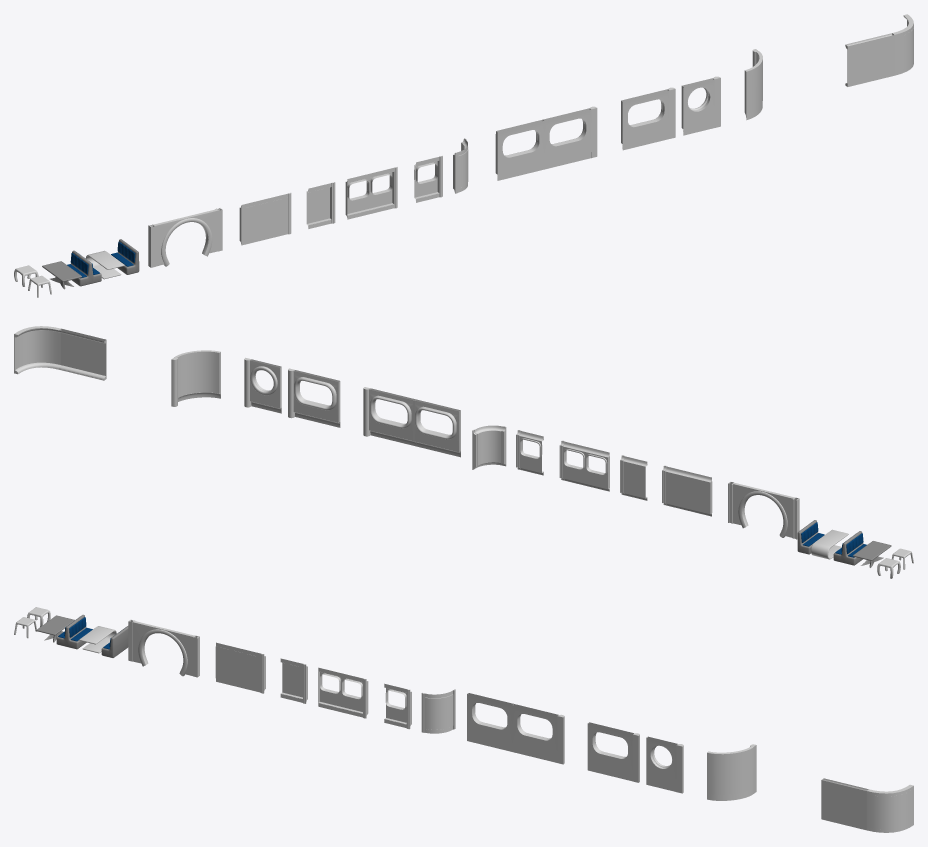
The model's file is LEVEL MODULAR PIECIES.fbx.
3 renders of one model, top to bottom at view 1: azimuth 30°, elevation 25°; view 2: azimuth 150°, elevation 25°; view 3: azimuth 330°, elevation 25°, orthographic. The views are drawn at different scales.
Visible parts, largest first — view 1: Cube.009, WindowWall_L.005, WindowWall_L.001, WindowWall_L.003, Cube.013, WindowWall_L, WindowWall_L.009, WindowWall_L.011, Entrance, BlankWall_S, WindowWall_S, Cube.024 (+2 smaller); view 2: WindowWall_L.011, BlankWall_L, Cube.024, Cube.013, WindowWall_L, WindowWall_L.005, WindowWall_L.001, Cube.009, WindowWall_L.003, WindowWall_L.009, Corner, BlankWall_S (+5 smaller); view 3: WindowWall_L.011, Cube.009, WindowWall_L.001, WindowWall_L.003, WindowWall_L.005, Cube.024, Cube.013, WindowWall_L, WindowWall_L.009, Corner, Entrance, BlankWall_S (+5 smaller).
Part boxes in pixels (<box>): Cube.009: <box>239,193,287,245</box>; WindowWall_L.005: <box>495,119,544,180</box>; WindowWall_L.001: <box>621,89,669,150</box>; WindowWall_L.003: <box>543,108,591,169</box>; Cube.013: <box>847,38,894,83</box>; WindowWall_L: <box>345,168,394,219</box>; WindowWall_L.009: <box>681,78,714,135</box>; WindowWall_L.011: <box>744,51,762,120</box>; Entrance: <box>154,209,217,266</box>; BlankWall_S: <box>306,183,331,228</box>; WindowWall_S: <box>414,157,439,202</box>; Cube.024: <box>894,20,913,72</box>; WindowWall_L.011: <box>175,350,220,401</box>; BlankWall_L: <box>665,466,712,516</box>; Cube.024: <box>14,330,60,370</box>; Cube.013: <box>61,333,106,375</box>; WindowWall_L: <box>563,441,609,491</box>; WindowWall_L.005: <box>414,399,460,457</box>; WindowWall_L.001: <box>293,370,340,427</box>; Cube.009: <box>665,467,712,515</box>; WindowWall_L.003: <box>369,388,415,445</box>; WindowWall_L.009: <box>250,359,281,413</box>; Corner: <box>475,425,502,468</box>; BlankWall_S: <box>623,456,647,500</box>; WindowWall_L.011: <box>707,746,753,800</box>; Cube.009: <box>215,642,260,692</box>; WindowWall_L.001: <box>587,722,633,781</box>; WindowWall_L.003: <box>512,704,558,762</box>; WindowWall_L.005: <box>467,693,513,751</box>; Cube.024: <box>866,789,913,829</box>; Cube.013: <box>821,783,866,826</box>; WindowWall_L: <box>318,667,362,717</box>; WindowWall_L.009: <box>646,736,677,791</box>; Corner: <box>425,690,453,733</box>; Entrance: <box>133,621,194,675</box>; BlankWall_S: <box>280,658,302,702</box>.
Size of the model in its own units: 5782 by 315 by 364.
